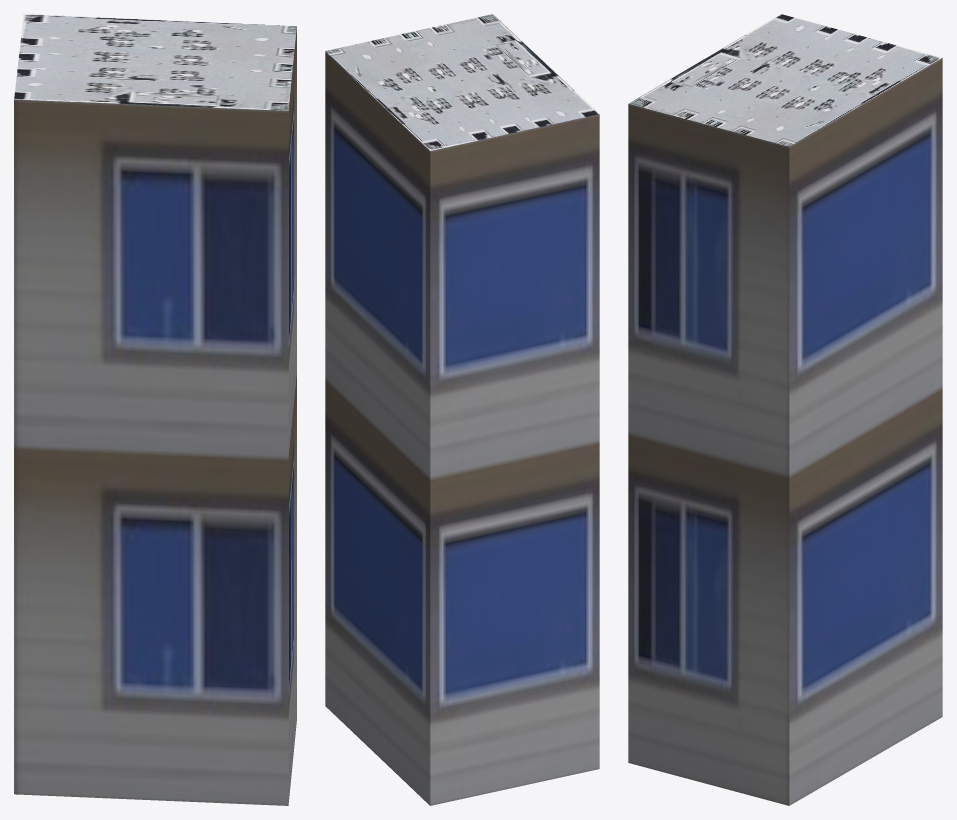
File: ResTex__1934.fbx
The picture shows the model from 3 angles, left to right: view 1: azimuth 30°, elevation 25°; view 2: azimuth 150°, elevation 25°; view 3: azimuth 270°, elevation 25°; orthographic projection. The views are drawn at different scales.
Visible parts, largest first — view 1: CityEngineMaterial_23_m, CityEngineMaterial_2_m; view 2: CityEngineMaterial_23_m, CityEngineMaterial_2_m; view 3: CityEngineMaterial_23_m, CityEngineMaterial_2_m.
Part boxes in pixels (bbox=[...]): CityEngineMaterial_23_m: bbox=[14, 26, 296, 805]; CityEngineMaterial_2_m: bbox=[14, 14, 296, 110]; CityEngineMaterial_23_m: bbox=[325, 51, 599, 805]; CityEngineMaterial_2_m: bbox=[325, 14, 599, 150]; CityEngineMaterial_23_m: bbox=[628, 58, 942, 805]; CityEngineMaterial_2_m: bbox=[628, 14, 942, 146].
Size of the model in its own units: 2.59 by 6 by 2.59.
Materials: 2 (2 with a texture image).
